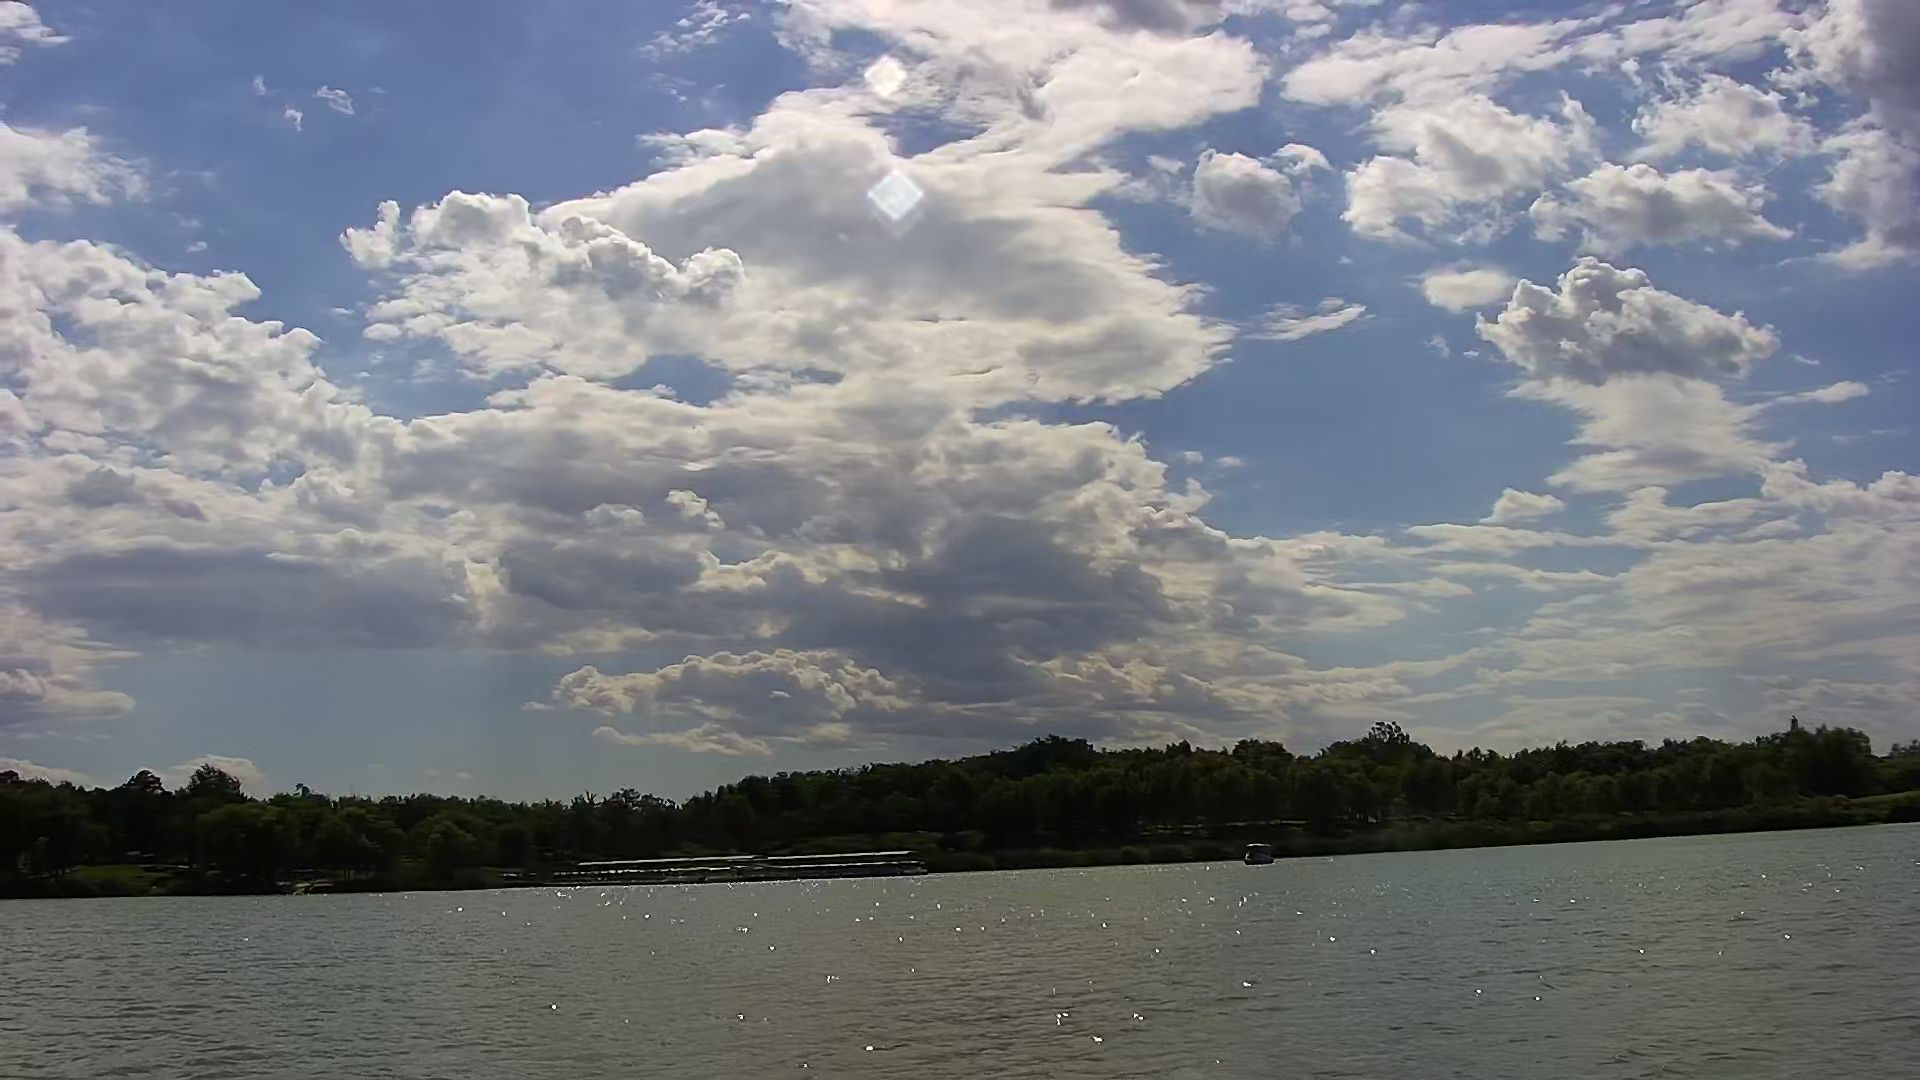boat: (1241, 836, 1278, 870)
harbor: (568, 851, 928, 887)
